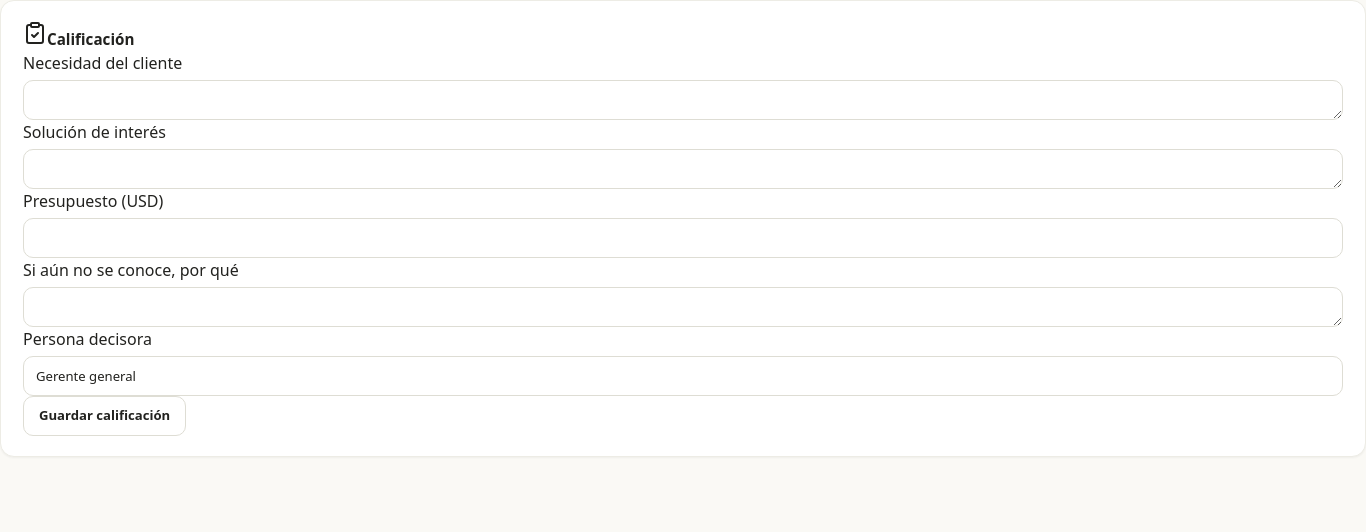
Test case: guarda necesidad, solución, presupuesto, justificación y decisor
The width and height of the screenshot is (1366, 532).
Check: the field labelled "Persona decisora" holds "Gerente general", box [23,356,1343,396]
Type "Tienda en línea" into the text box labelled "Necesidad del cliente" at (683, 100), box [23,80,1343,120]
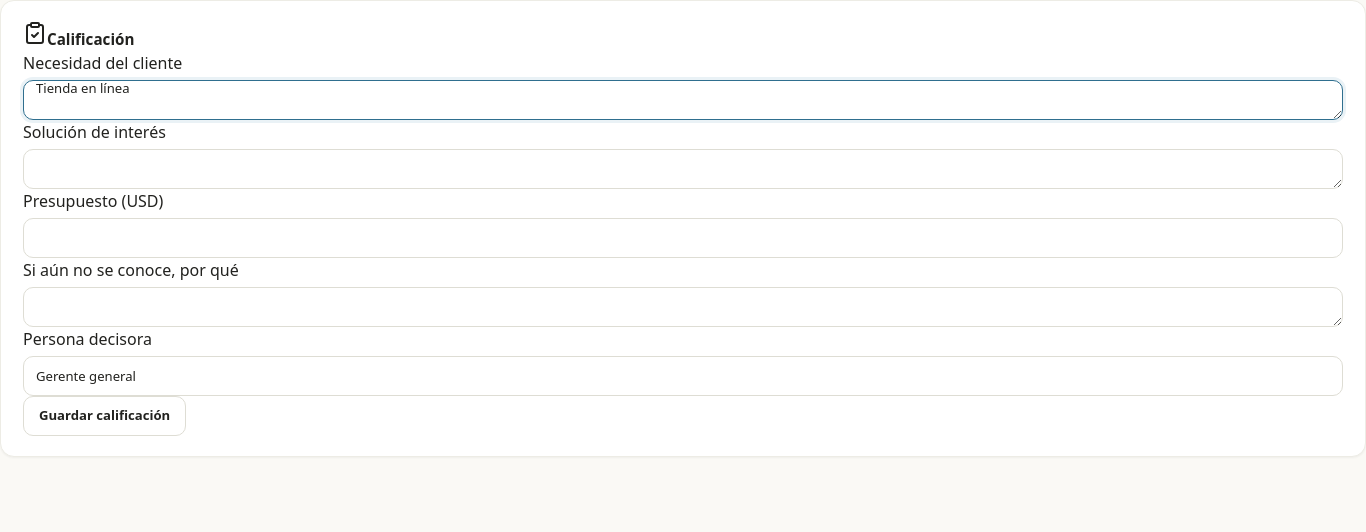
Type "Plan anual" into the text box labelled "Solución de interés" at (683, 169), box [23,149,1343,189]
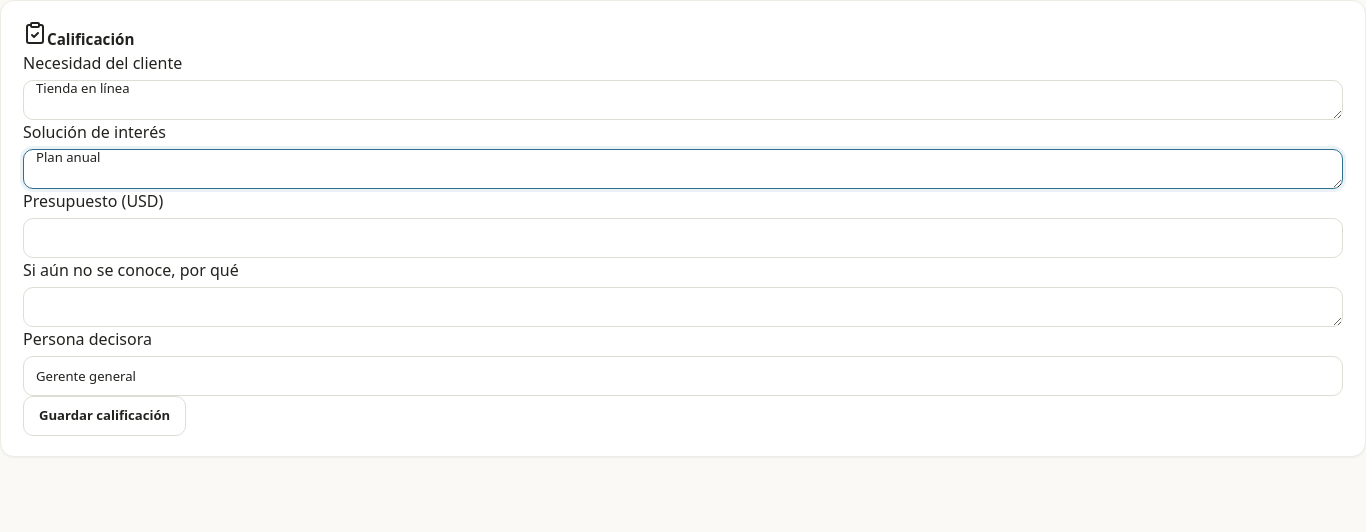
Type "5000,50" into the field labelled "Presupuesto (USD)" at (683, 238), box [23,218,1343,258]
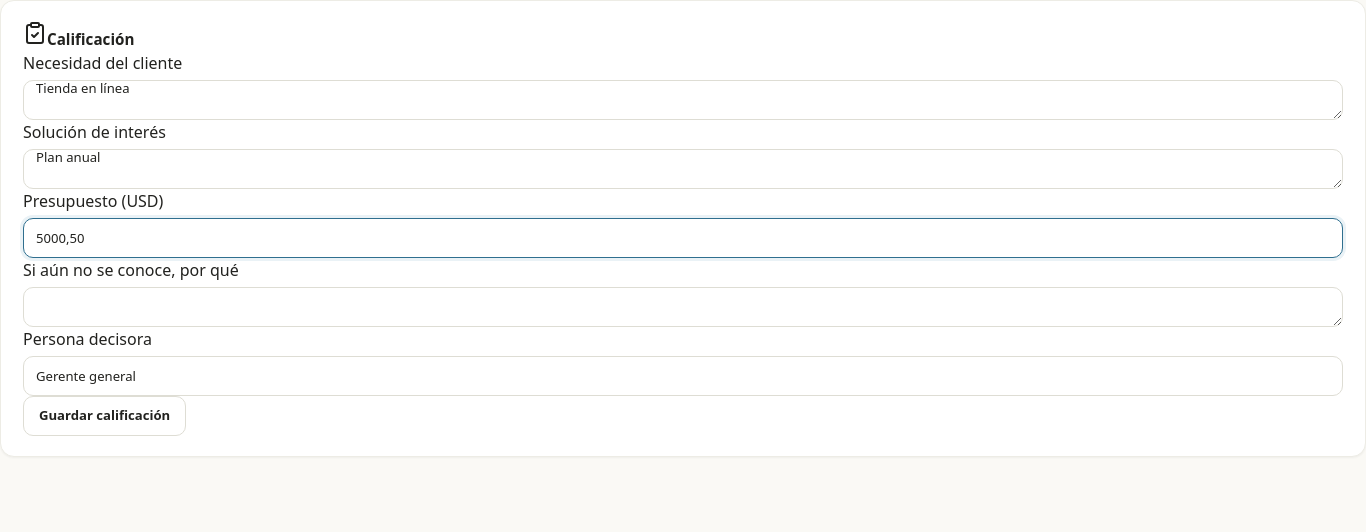
Click the button "Guardar calificación" at (105, 416), box [23,396,186,436]
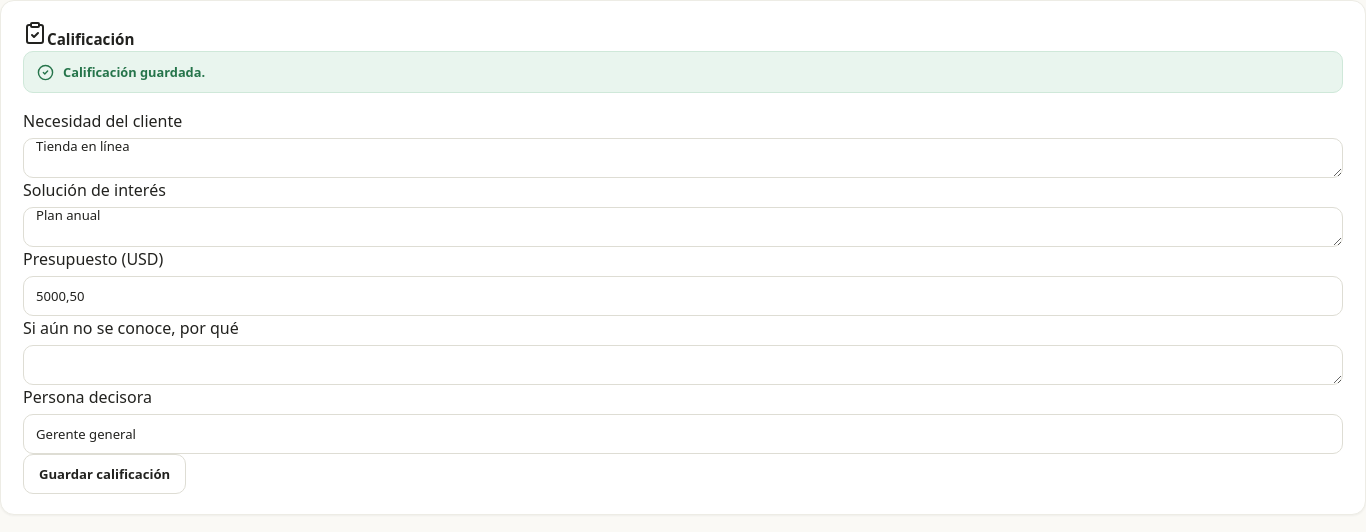
Check: the element showing "Calificación guardada." is shown, box [23,51,1343,93]
